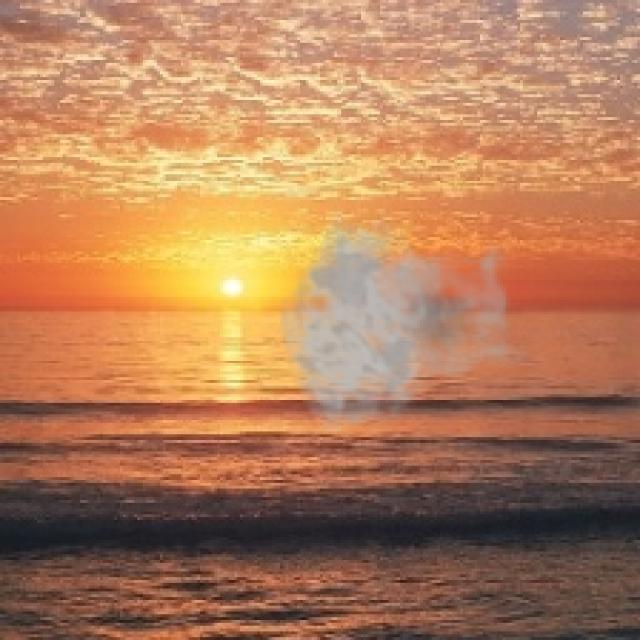Smoke: (277, 202, 529, 438)
